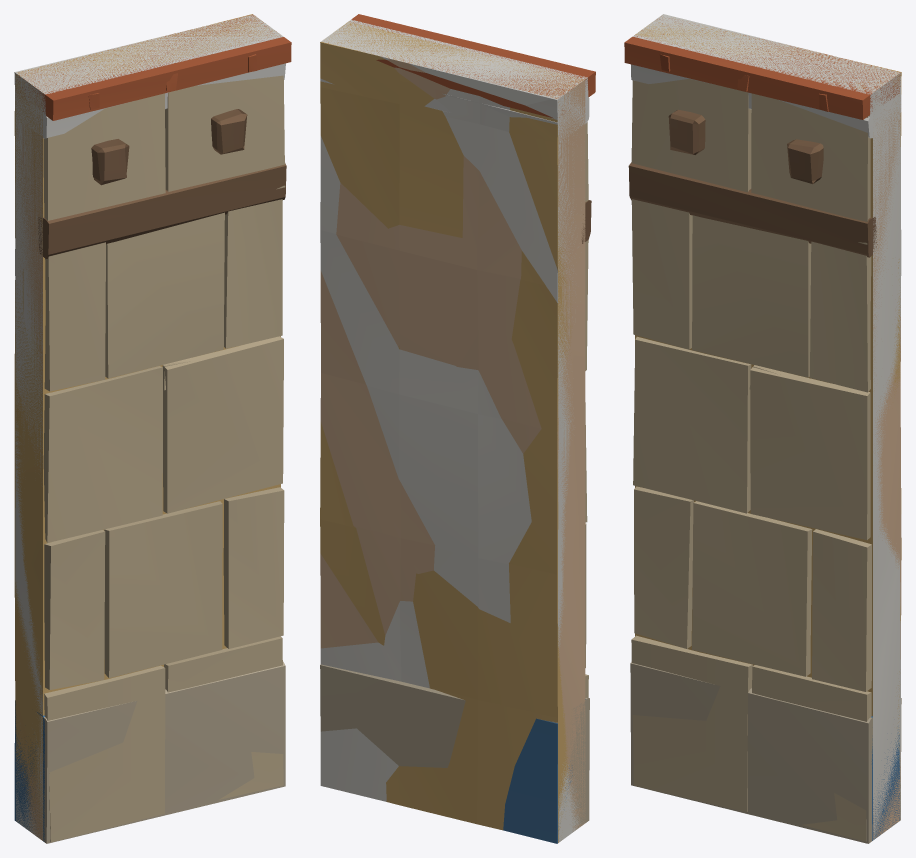
The model's file is wall.timber.glb.
3 renders of one model, left to right at view 1: azimuth 30°, elevation 25°; view 2: azimuth 150°, elevation 25°; view 3: azimuth 330°, elevation 25°, orthographic.
Visible parts, largest first — view 1: wall.timber.v2.mesh, wall.timber.v1.mesh, wall.timber.v0.mesh; view 2: wall.timber.v1.mesh, wall.timber.v0.mesh, wall.timber.v2.mesh; view 3: wall.timber.v2.mesh, wall.timber.v1.mesh, wall.timber.v0.mesh.
Part boxes in pixels (left/top/right/bottom): wall.timber.v2.mesh: left=15, top=15, right=285, bottom=842; wall.timber.v1.mesh: left=14, top=14, right=291, bottom=843; wall.timber.v0.mesh: left=14, top=14, right=283, bottom=841; wall.timber.v1.mesh: left=320, top=14, right=595, bottom=842; wall.timber.v0.mesh: left=320, top=19, right=588, bottom=843; wall.timber.v2.mesh: left=320, top=26, right=588, bottom=831; wall.timber.v2.mesh: left=631, top=43, right=901, bottom=841; wall.timber.v1.mesh: left=624, top=16, right=901, bottom=843; wall.timber.v0.mesh: left=633, top=14, right=901, bottom=840.
Bounding box in the file's own units: 0.9999 × 3 × 0.3037.
